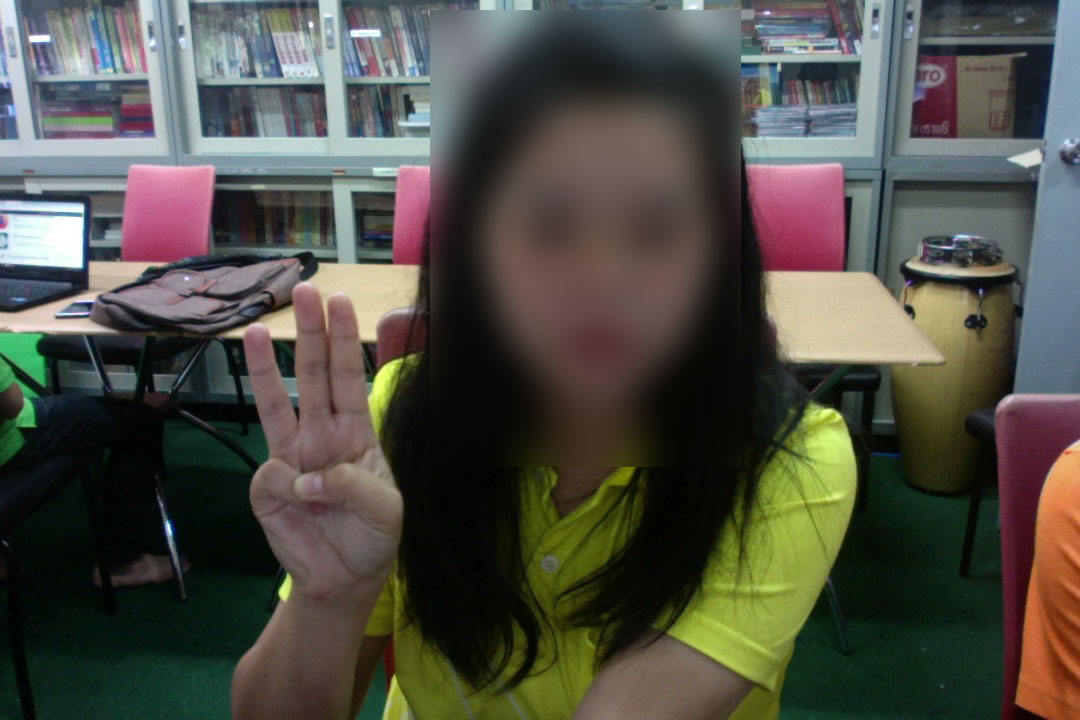wor: (230, 287, 421, 603)
